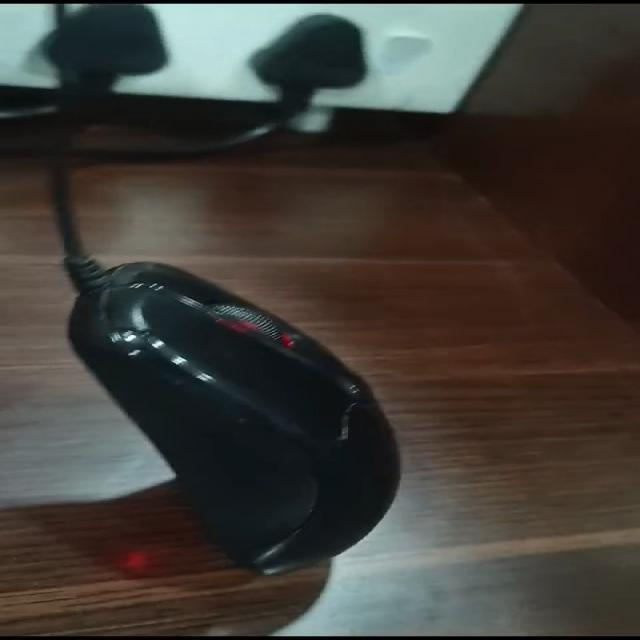mouse: (4, 222, 444, 574)
